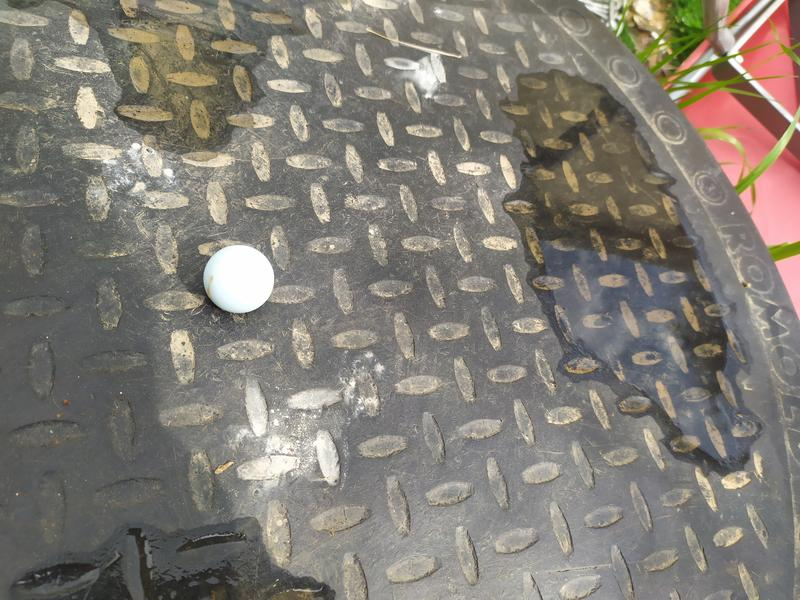Warning: (200, 242, 277, 316)
